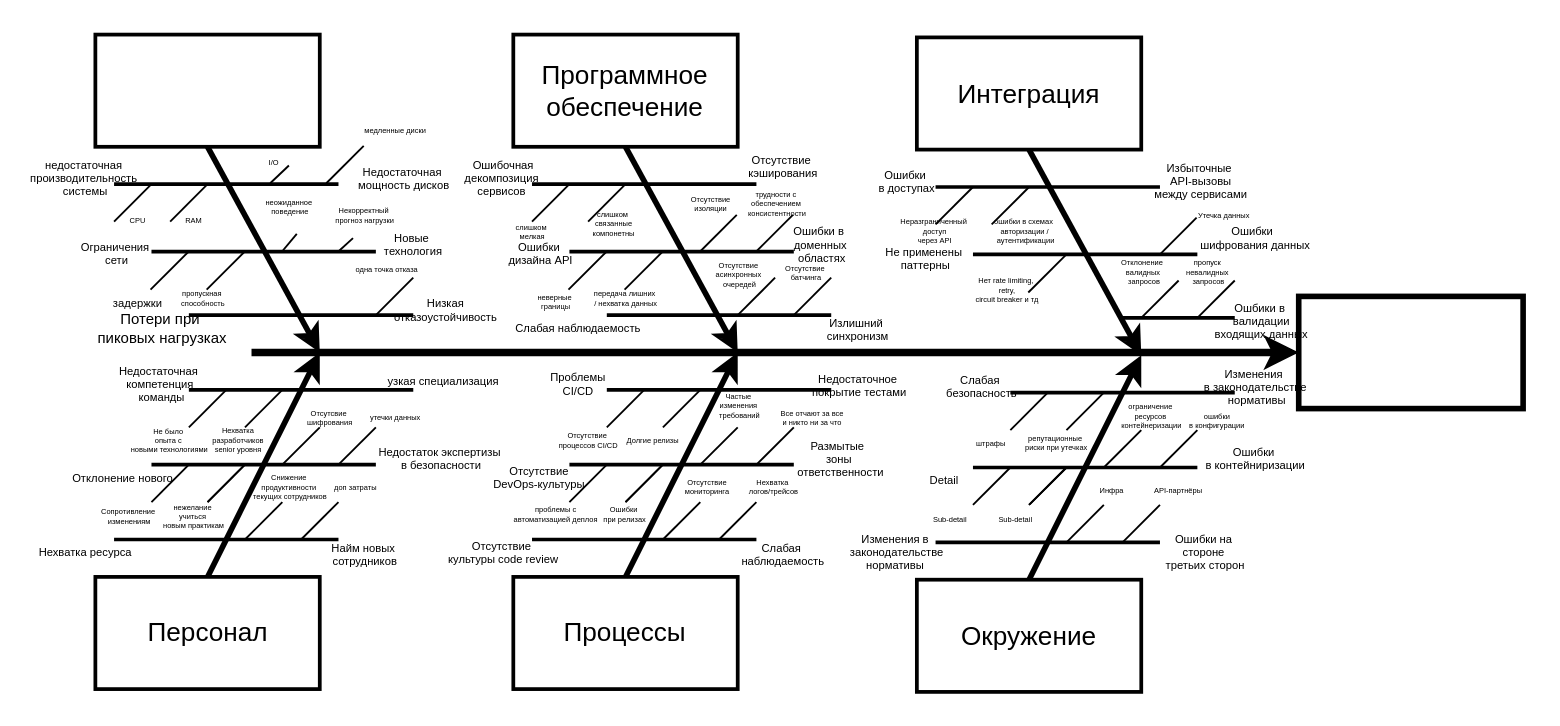
The diagram is 1560 pixels wide and 726 high, and some of its shapes have lost their labels. Each missing label, with the centre of its shape:
Инфраструктура: the point at 207,90
Система не выдерживает нагрузки, имеет уязвимые места в безопасности: the point at 1410,351
